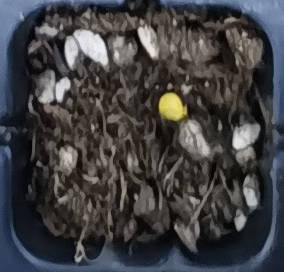pepper seed: (64, 32, 250, 154)
